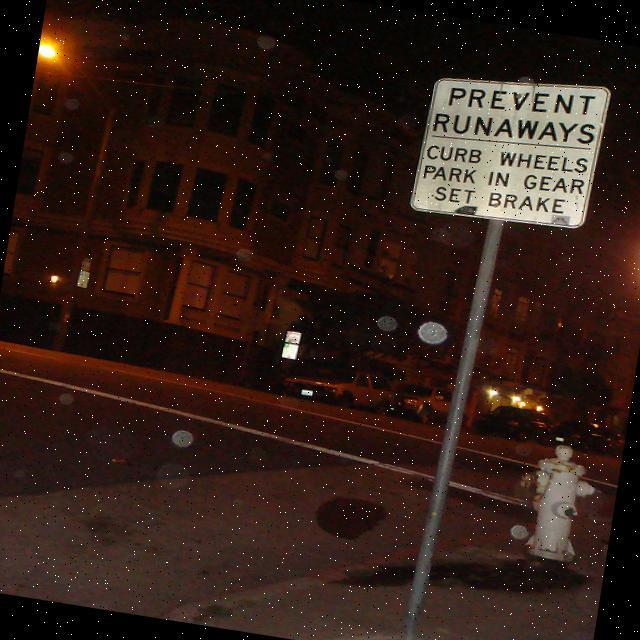fire_hydrant: (504, 439, 601, 567)
